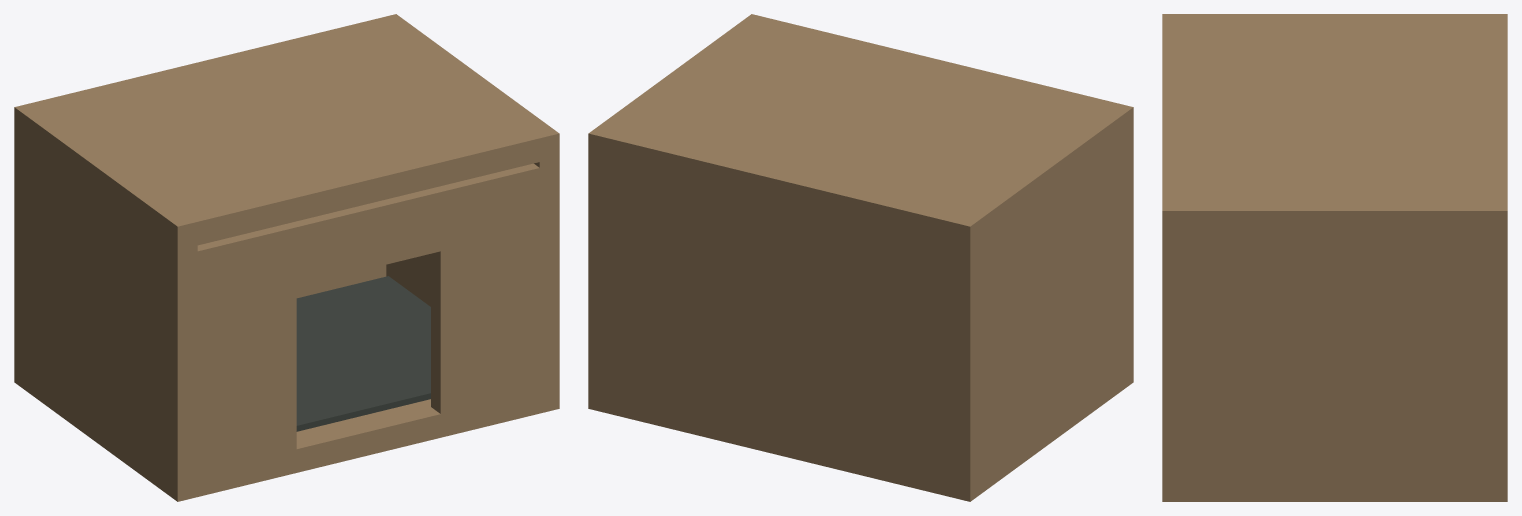
The model's file is zoo-and-safari-park-builder-heated-den-box-58ae0424__21474.glb.
3 views of the same model, side by side, from view 1: azimuth 30°, elevation 25°; view 2: azimuth 150°, elevation 25°; view 3: azimuth 270°, elevation 25° (orthographic). The views are drawn at different scales.
Visible parts, largest first — view 1: heated-den-box; view 2: heated-den-box; view 3: heated-den-box.
Part boxes in pixels (left/top/right/bottom): heated-den-box: left=14, top=14, right=559, bottom=501; heated-den-box: left=588, top=14, right=1133, bottom=501; heated-den-box: left=1162, top=14, right=1507, bottom=501.
Size of the model in its own units: 1.35 by 0.93 by 0.9999.
